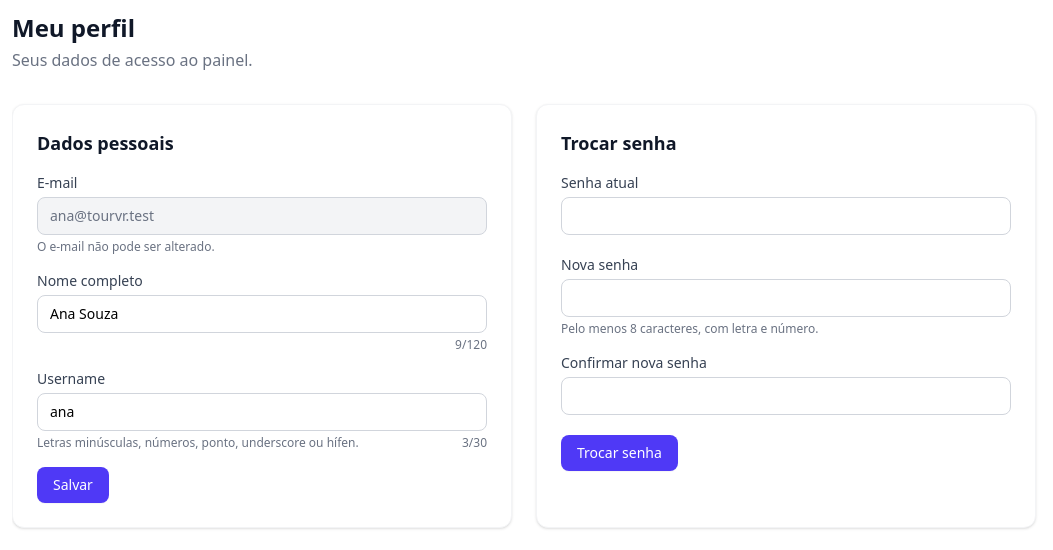
Test: ProfilePage › troca a senha, limpa os campos e confirma
Type "antiga123" into the password field labelled "Senha atual" at x=786, y=216, box [561,197,1011,235]
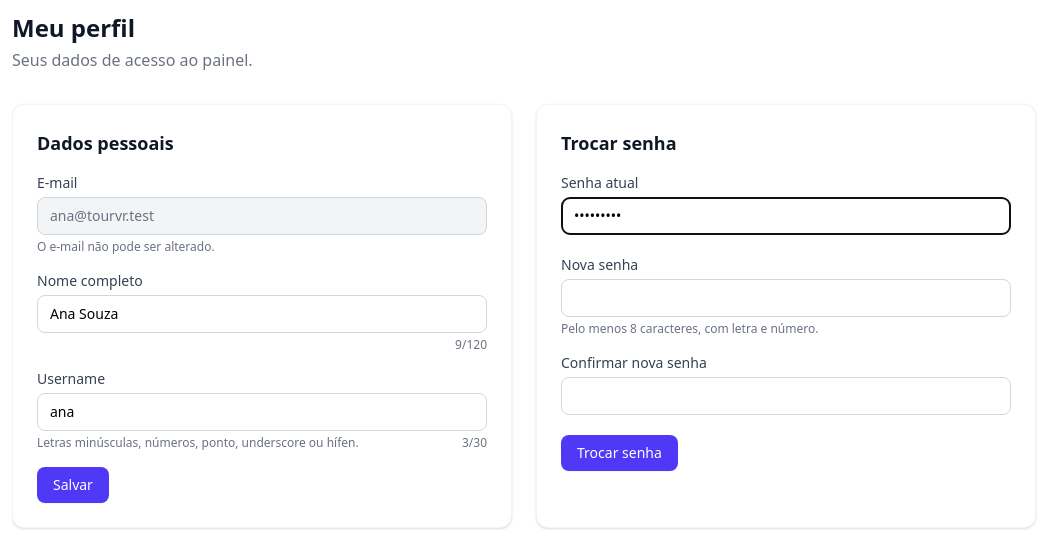
Type "nova12345" into the password field labelled "Nova senha" at x=786, y=298, box [561,279,1011,317]
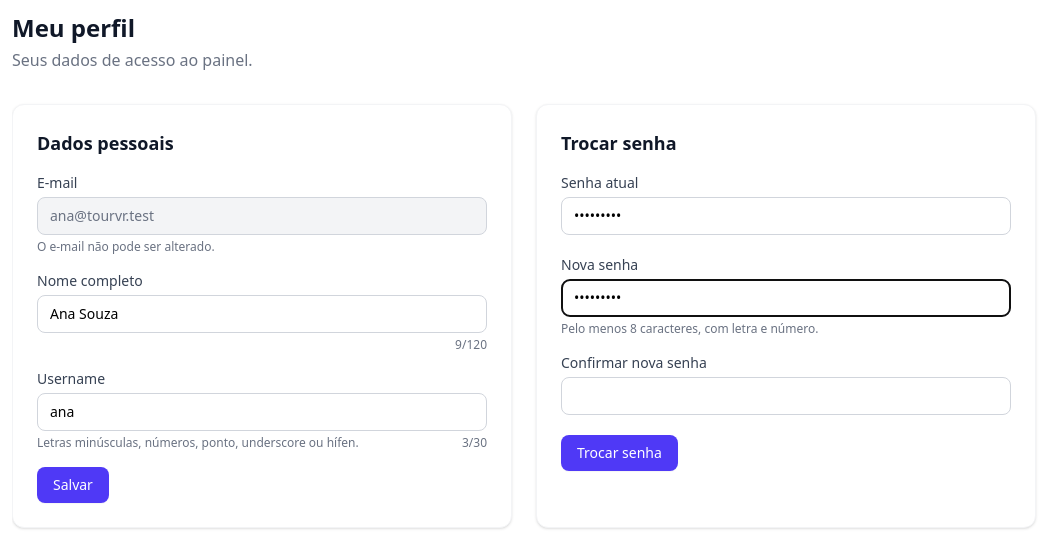
Type "nova12345" into the password field labelled "Confirmar nova senha" at x=786, y=396, box [561,377,1011,415]
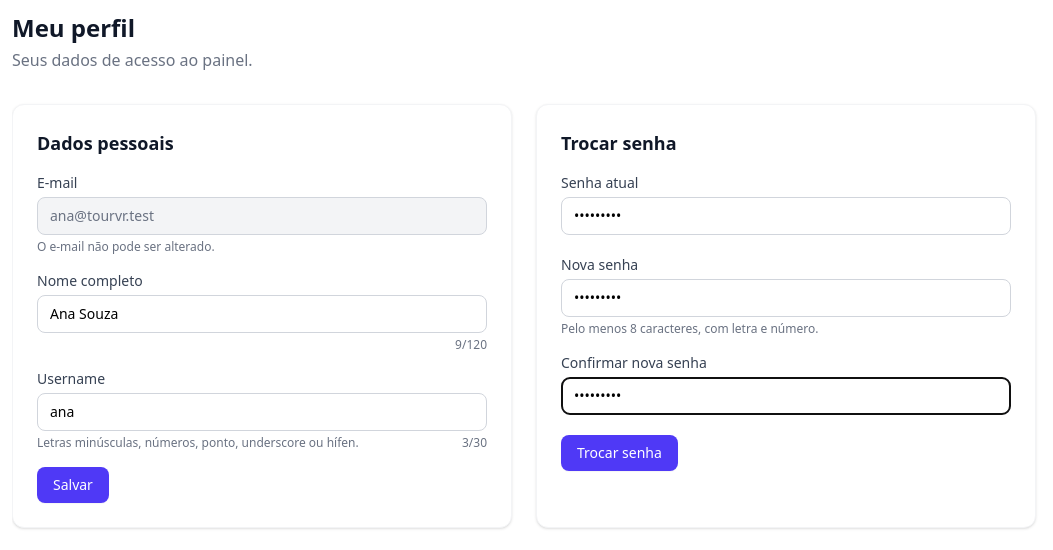
Click the button "Trocar senha" at x=619, y=453, box [561,435,678,471]
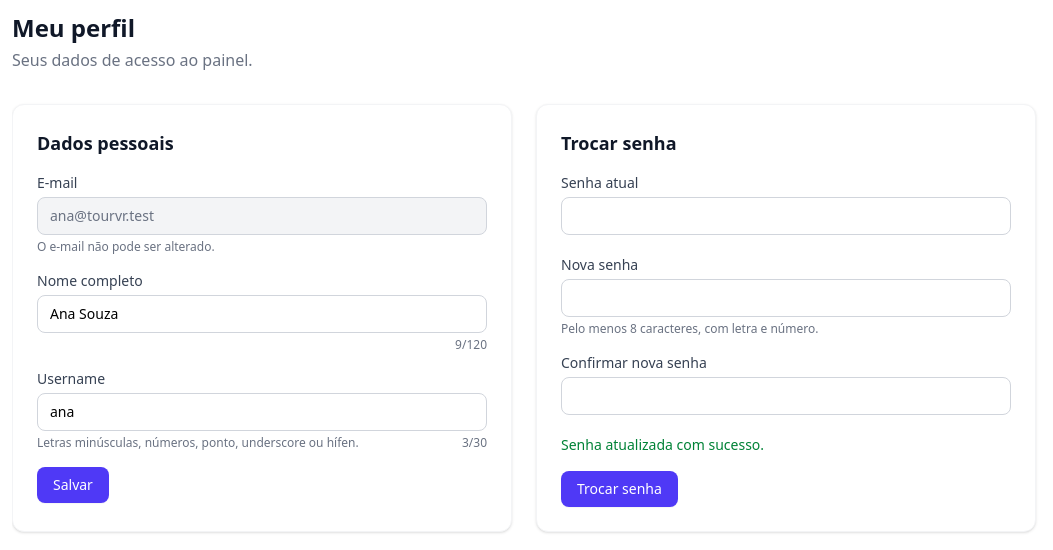
Expected: the text "Senha atualizada com sucesso." is shown, [561,435,764,454]
Expected: the password field labelled "Senha atual" is empty, [561,197,1011,235]
Expected: the password field labelled "Nova senha" is empty, [561,279,1011,317]
